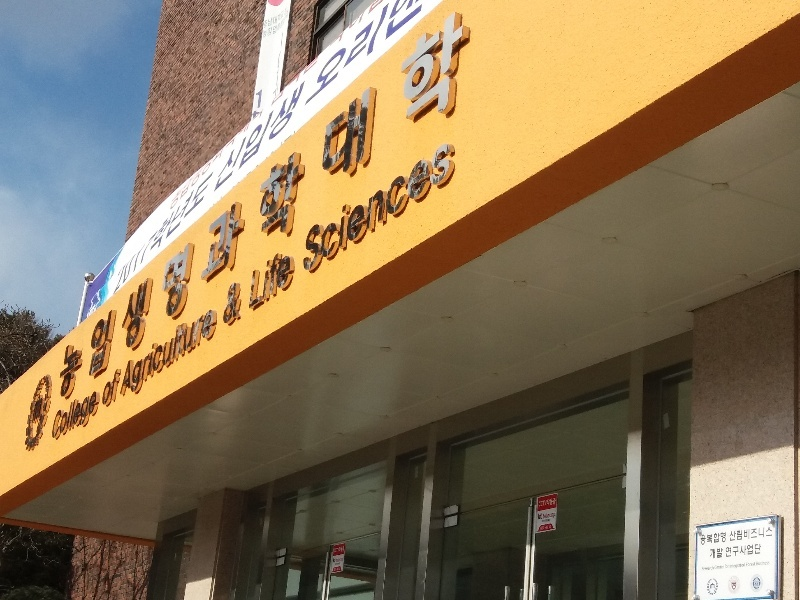text: (481, 3, 497, 408), (65, 3, 80, 408), (81, 3, 96, 408), (97, 3, 112, 408), (113, 3, 128, 408), (129, 3, 144, 408), (145, 3, 160, 408), (161, 3, 176, 408), (177, 3, 192, 408), (193, 3, 208, 408), (209, 3, 224, 408), (225, 3, 240, 408), (241, 3, 256, 408), (257, 3, 272, 408), (273, 3, 288, 408), (289, 3, 304, 408), (305, 3, 320, 408), (321, 3, 336, 408), (337, 3, 352, 408), (353, 3, 368, 408), (369, 3, 384, 408), (385, 3, 400, 408), (401, 3, 416, 408), (417, 3, 432, 408), (433, 3, 448, 408), (449, 3, 464, 408), (465, 3, 480, 408), (55, 3, 64, 408), (225, 2, 240, 198), (241, 2, 256, 198), (257, 2, 272, 198), (273, 2, 288, 198), (289, 2, 304, 198), (305, 2, 320, 198), (321, 2, 336, 198), (337, 2, 352, 198), (353, 2, 368, 198), (369, 2, 384, 198), (305, 136, 320, 281), (321, 136, 336, 281), (337, 136, 352, 281), (353, 136, 368, 281), (369, 136, 384, 281), (385, 136, 400, 281), (401, 136, 416, 281), (417, 136, 432, 281), (433, 136, 448, 281), (129, 168, 144, 301), (145, 168, 160, 301), (161, 168, 176, 301), (177, 168, 192, 301), (193, 168, 208, 301), (129, 301, 144, 407), (145, 301, 160, 407), (161, 301, 176, 407), (177, 301, 192, 407), (193, 301, 208, 407), (117, 168, 128, 301), (217, 2, 224, 198), (385, 2, 391, 198), (449, 136, 457, 281), (257, 245, 272, 314), (273, 245, 288, 314), (65, 387, 80, 444), (81, 387, 96, 444), (209, 301, 217, 407), (227, 279, 240, 328), (209, 168, 213, 301), (55, 387, 64, 444), (113, 364, 123, 412), (289, 245, 295, 314), (104, 364, 112, 412), (252, 245, 256, 314), (97, 387, 101, 444), (737, 527, 752, 542), (753, 527, 768, 542), (126, 301, 128, 407), (737, 544, 752, 558), (705, 532, 720, 546), (303, 136, 304, 281), (546, 497, 560, 507), (726, 544, 736, 558), (753, 544, 762, 558), (257, 89, 263, 109), (710, 548, 720, 559), (241, 279, 243, 328), (730, 527, 736, 542), (545, 512, 556, 519), (337, 546, 345, 555), (721, 532, 726, 546), (769, 527, 773, 542), (545, 524, 552, 532), (737, 563, 746, 569), (538, 513, 544, 521), (725, 565, 736, 569), (757, 562, 768, 566), (729, 563, 736, 569), (701, 532, 704, 546), (539, 500, 544, 508), (705, 567, 714, 571), (540, 524, 544, 532), (714, 566, 720, 570), (746, 563, 752, 567), (721, 548, 723, 559), (334, 546, 336, 555), (545, 500, 547, 508), (721, 566, 725, 570), (753, 563, 756, 567), (702, 567, 704, 571), (543, 512, 544, 519), (769, 562, 770, 566)
